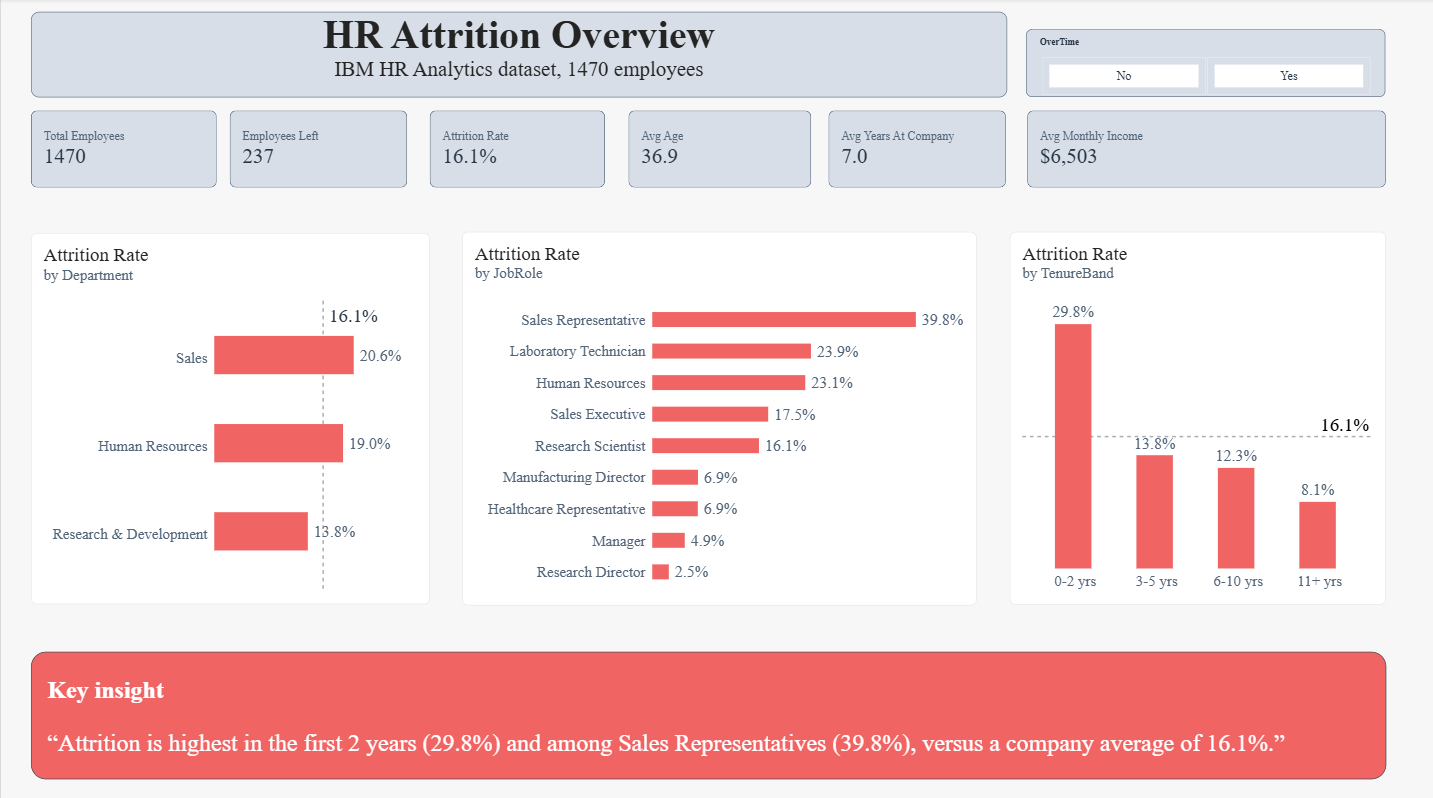

The dashboard page shown, as its layout file describes it:
{"tool":"powerbi","page":{"name":"Executive Overview","canvas":[1920,1080],"ordinal":0},"visuals":[{"type":"textbox","box":[40,18,1304,114],"z":0},{"type":"cardVisual","fields":{"Data":["EmployeeFact.Total Employees"]},"box":[39.3,150.2,248.5,103.7],"z":1000},{"type":"cardVisual","fields":{"Data":["EmployeeFact.Attrition Rate"]},"box":[573.2,150.8,234.6,103.9],"z":2000},{"type":"cardVisual","fields":{"Data":["EmployeeFact.Employees Left"]},"box":[305,150.8,238,103.9],"z":3000},{"type":"cardVisual","fields":{"Data":["EmployeeFact.Avg Age"]},"box":[838,150.8,244.7,103.9],"z":4000},{"type":"cardVisual","fields":{"Data":["EmployeeFact.Avg Years At Company"]},"box":[1106.2,150.8,238,103.9],"z":5000},{"type":"cardVisual","fields":{"Data":["EmployeeFact.Avg Monthly Income"]},"box":[1371,150.8,479.3,103.9],"z":6000},{"type":"clusteredBarChart","fields":{"Category":["DimDepartment.Department"],"Y":["EmployeeFact.Attrition Rate"]},"box":[40,314,533,496.1],"z":7000},{"type":"clusteredBarChart","fields":{"Category":["DimJobRole.JobRole"],"Y":["EmployeeFact.Attrition Rate"]},"box":[616,312,687.2,499.4],"z":8000},{"type":"clusteredColumnChart","fields":{"Category":["DimTenureBand.TenureBand"],"Y":["EmployeeFact.Attrition Rate"]},"box":[1348,312,502,498],"z":9000},{"type":"slicer","fields":{"Values":["EmployeeFact.OverTime"]},"box":[1370,42,480,90],"z":10000},{"type":"textbox","box":[40,874,1810,170],"z":11000}]}

Visuals, with their boxes in screenshot pixels (x1, y1, x2, y2), scaled from the page's 1920x1080 canvas onto the 1433x798 screenshot:
textbox: {"x1": 30, "y1": 13, "x2": 1003, "y2": 98}
cardVisual - EmployeeFact.Total Employees: {"x1": 29, "y1": 111, "x2": 215, "y2": 188}
cardVisual - EmployeeFact.Attrition Rate: {"x1": 428, "y1": 111, "x2": 603, "y2": 188}
cardVisual - EmployeeFact.Employees Left: {"x1": 228, "y1": 111, "x2": 405, "y2": 188}
cardVisual - EmployeeFact.Avg Age: {"x1": 625, "y1": 111, "x2": 808, "y2": 188}
cardVisual - EmployeeFact.Avg Years At Company: {"x1": 826, "y1": 111, "x2": 1003, "y2": 188}
cardVisual - EmployeeFact.Avg Monthly Income: {"x1": 1023, "y1": 111, "x2": 1381, "y2": 188}
clusteredBarChart - DimDepartment.Department x EmployeeFact.Attrition Rate: {"x1": 30, "y1": 232, "x2": 428, "y2": 599}
clusteredBarChart - DimJobRole.JobRole x EmployeeFact.Attrition Rate: {"x1": 460, "y1": 231, "x2": 973, "y2": 600}
clusteredColumnChart - DimTenureBand.TenureBand x EmployeeFact.Attrition Rate: {"x1": 1006, "y1": 231, "x2": 1381, "y2": 598}
slicer - EmployeeFact.OverTime: {"x1": 1023, "y1": 31, "x2": 1381, "y2": 98}
textbox: {"x1": 30, "y1": 646, "x2": 1381, "y2": 771}
